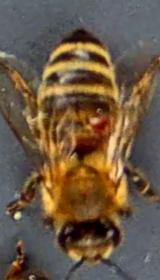varroa_mite: (78, 98, 124, 141)
